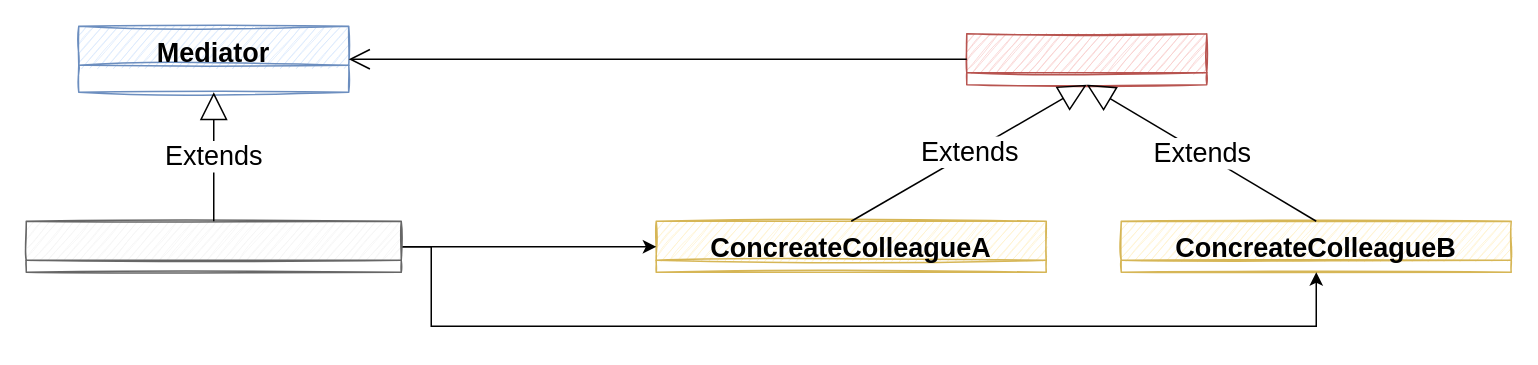
Some shapes in this 1538 by 365 pixel diagram are drawn without their labels. The shapes that lost their labels are listed below. From the top down, each one's centre as x and y in pixels, then its label:
At pixel 1086 58: "Colleague".
At pixel 213 246: "ConcreateMediator".
